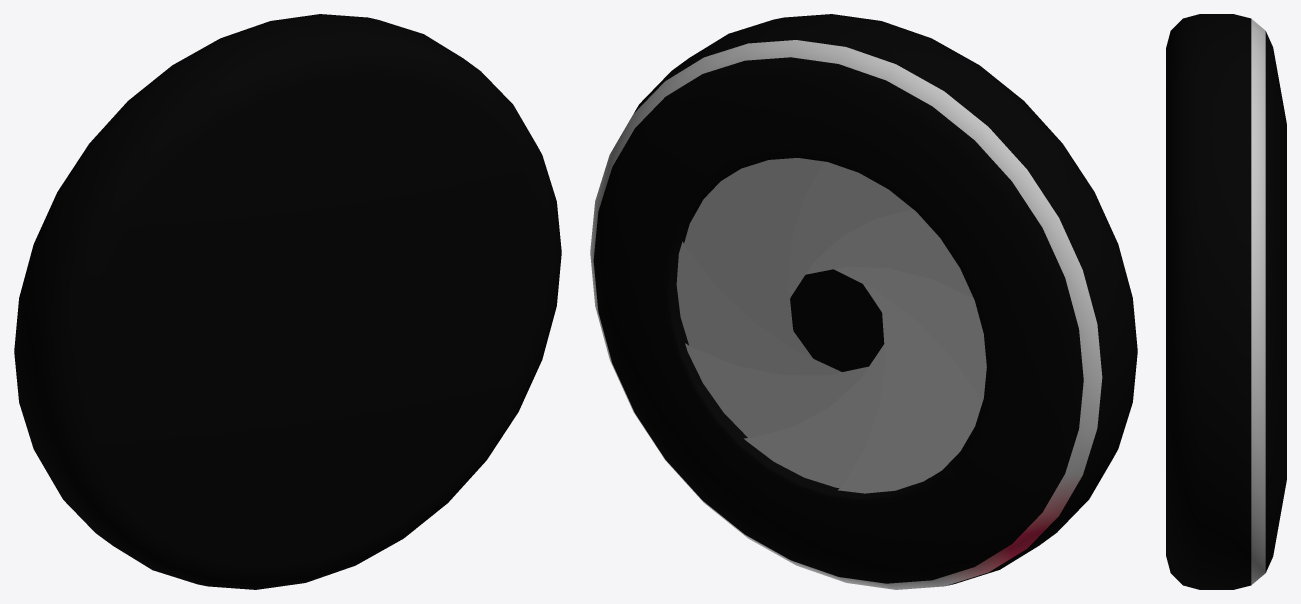
The model's file is BasisCameraRemotePip.fbx.
3 views of the same model, side by side, from view 1: azimuth 30°, elevation 25°; view 2: azimuth 150°, elevation 25°; view 3: azimuth 270°, elevation 25° (orthographic). The views are drawn at different scales.
Parts seen in each view (by area): view 1: RemoteCameraPip; view 2: RemoteCameraPip; view 3: RemoteCameraPip.
Part boxes in pixels (x1,y1,x2,y2): RemoteCameraPip: (14, 14, 561, 589); RemoteCameraPip: (590, 14, 1137, 589); RemoteCameraPip: (1166, 14, 1286, 589).
Size of the model in its own units: 21.37 by 21.38 by 4.48.
Materials: 1 (1 with a texture image).
